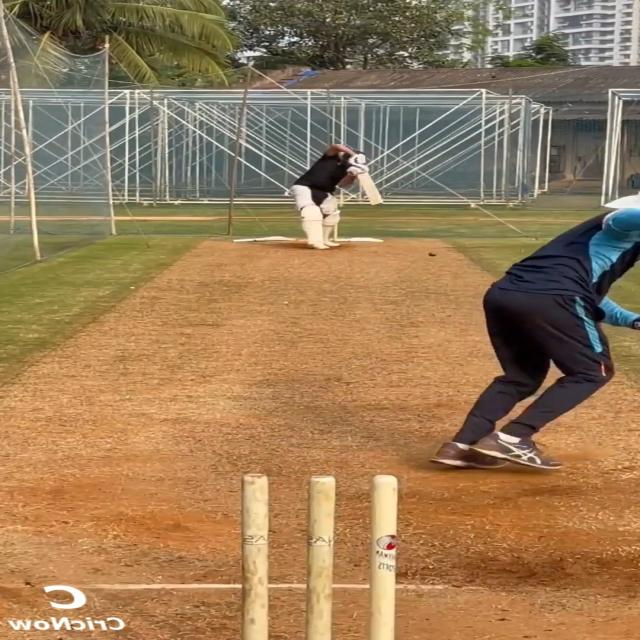ball: (427, 251, 437, 257)
stump: (237, 472, 403, 640)
